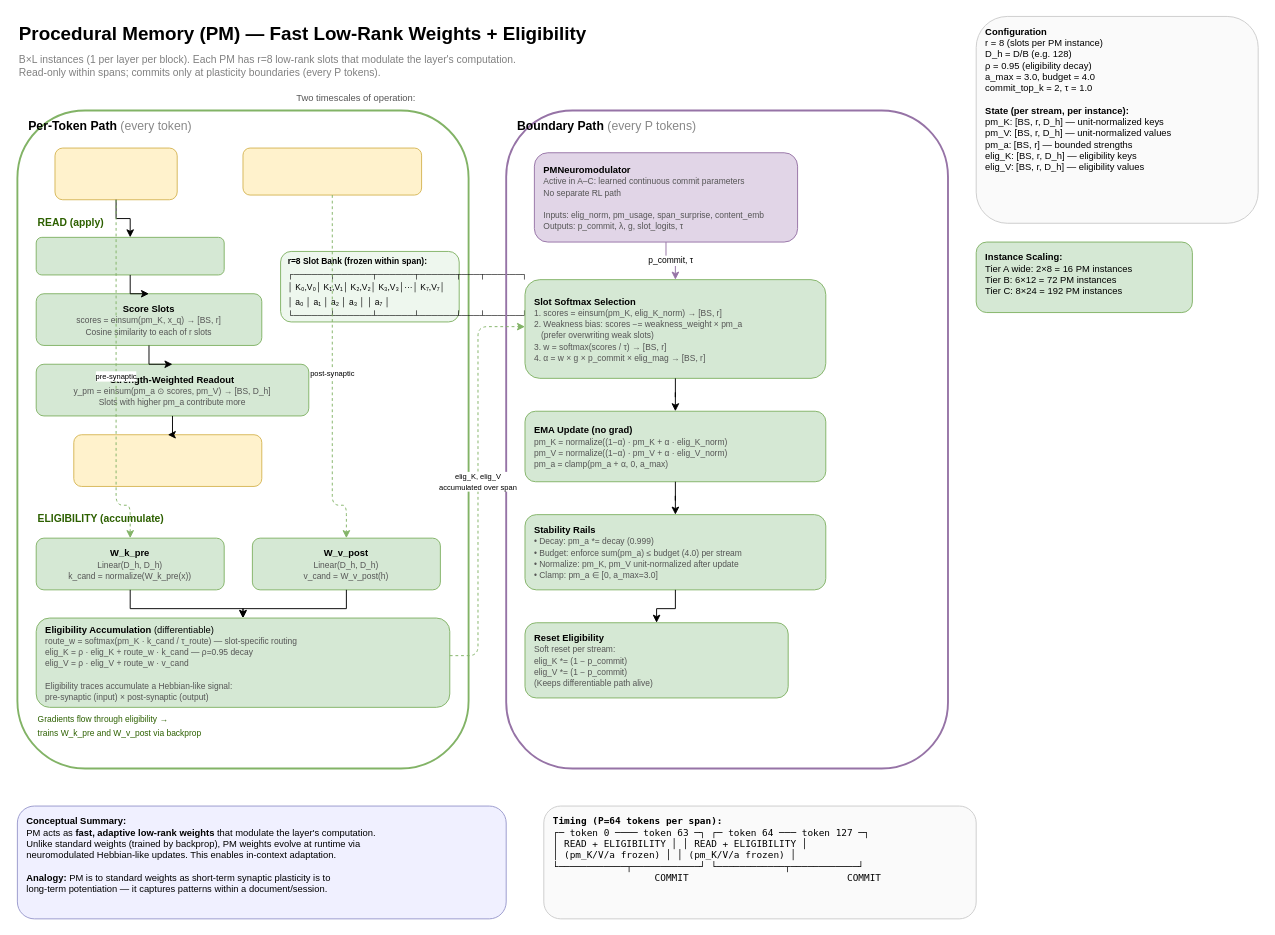
This 1275x935 diagram has some shape labels left out. Here are the shapes that lost their labels. From the top down, the centre of each, then its label:
[115,173]: x_block [BS, D_h] layer input
[332,171]: h (post-synaptic) [BS, D_h] — layer output
[129,255]: Unit Normalize x_q = normalize(x_block)
[167,460]: y_pm [BS, D_h] → fused into layer recurrence
